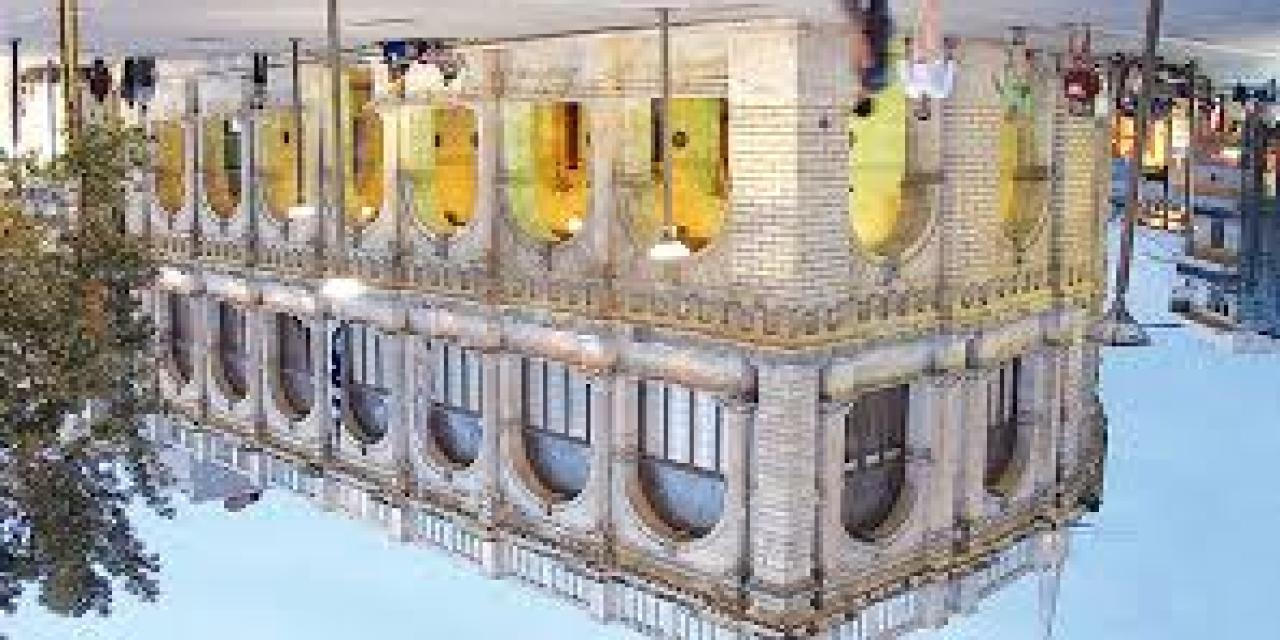Loggia: (116, 27, 1140, 640)
